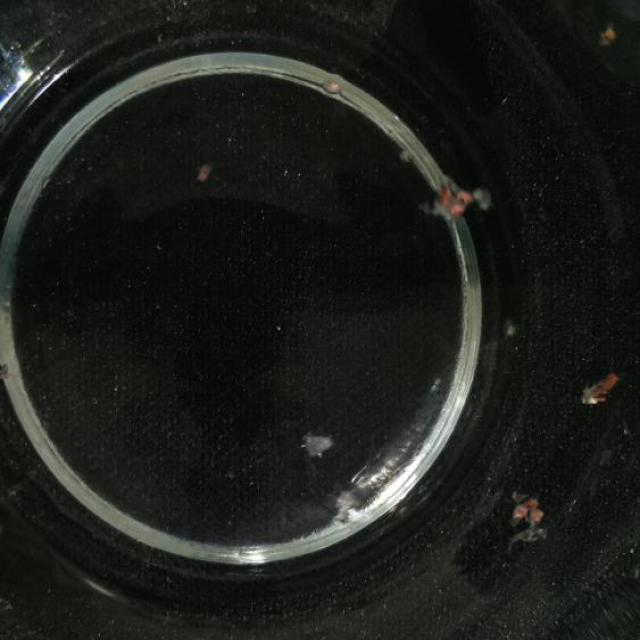fiber: (421, 172, 491, 228), (580, 366, 627, 415), (509, 489, 546, 547), (302, 429, 341, 458), (598, 23, 620, 52), (196, 162, 217, 185), (503, 317, 519, 345)
